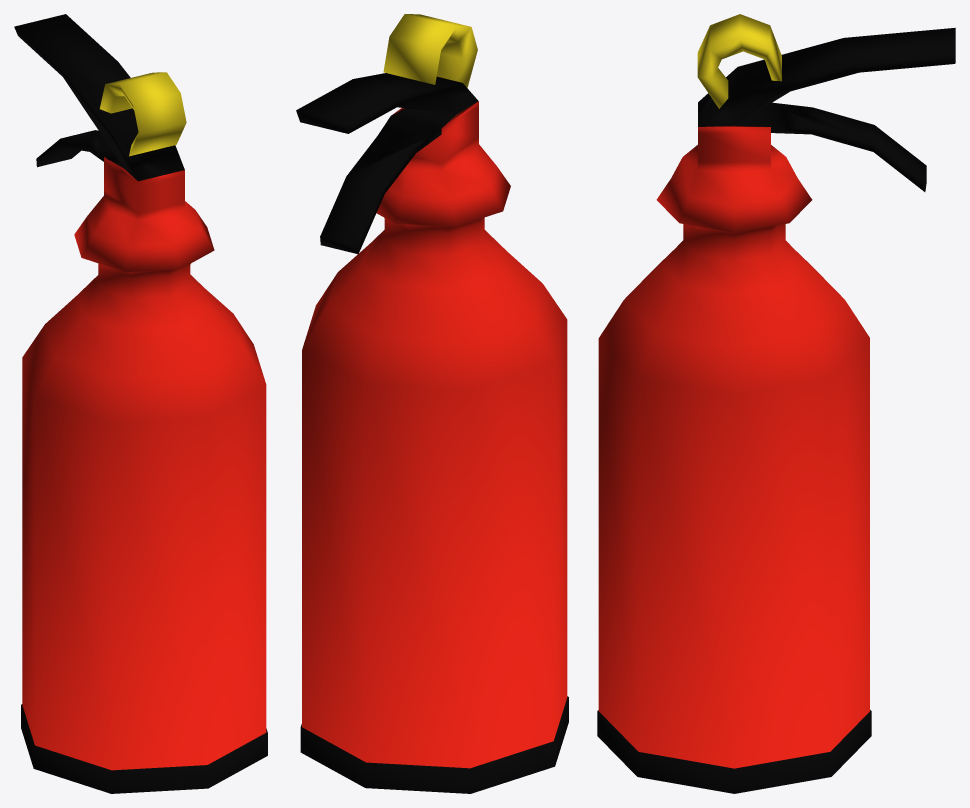
Rendered from FIreExtingusher.fbx.
3 views of the same model, side by side, from view 1: azimuth 30°, elevation 25°; view 2: azimuth 150°, elevation 25°; view 3: azimuth 270°, elevation 25° (orthographic). The views are drawn at different scales.
Visible parts, largest first — view 1: 円; view 2: 円; view 3: 円.
Part boxes in pixels (box(x1,y1,x2,y2)): 円: box(14, 14, 267, 793); 円: box(296, 14, 568, 793); 円: box(597, 14, 955, 793).
Bounding box in the file's own units: 200 × 571 × 261.
